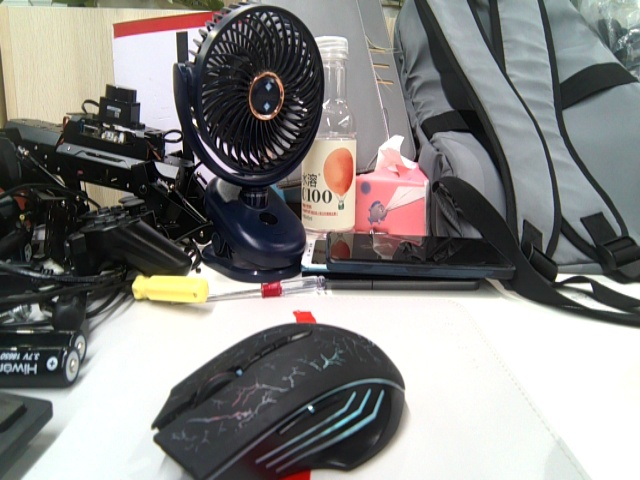mouse: (163, 321, 400, 467)
